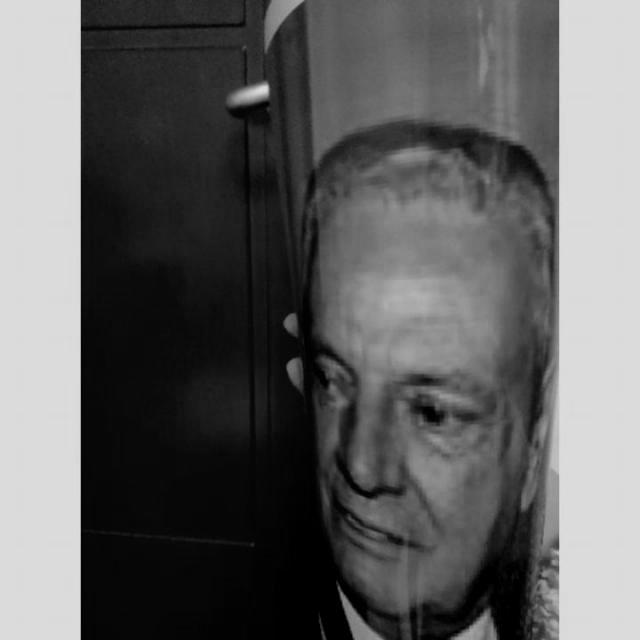fake: (264, 0, 560, 638)
